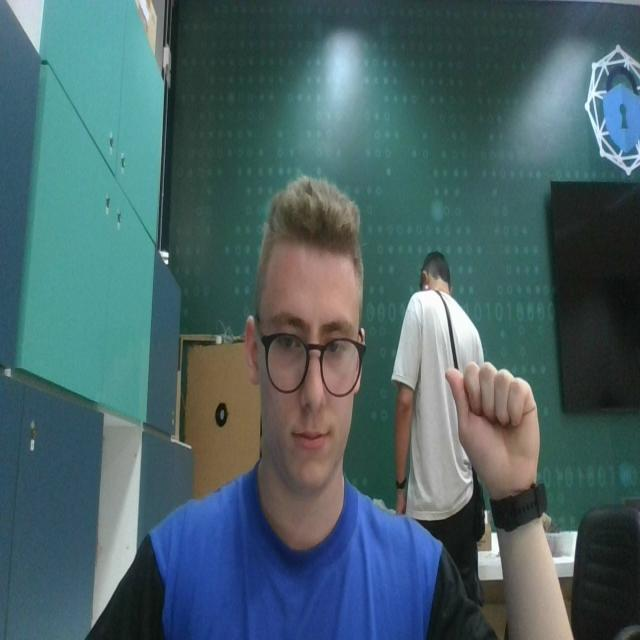A: (444, 359, 541, 485)
